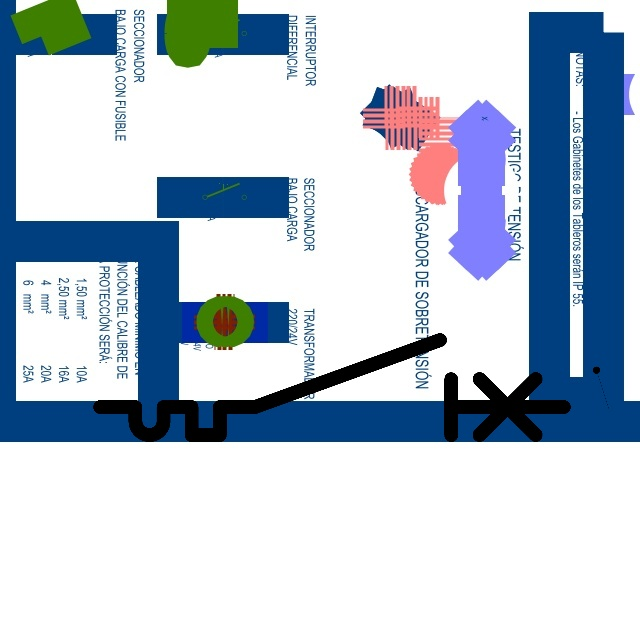interruptor_termomagnetico: (88, 328, 576, 447)
